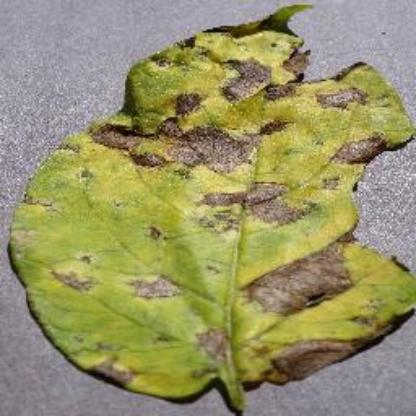Early-Blight: (8, 3, 416, 405)
